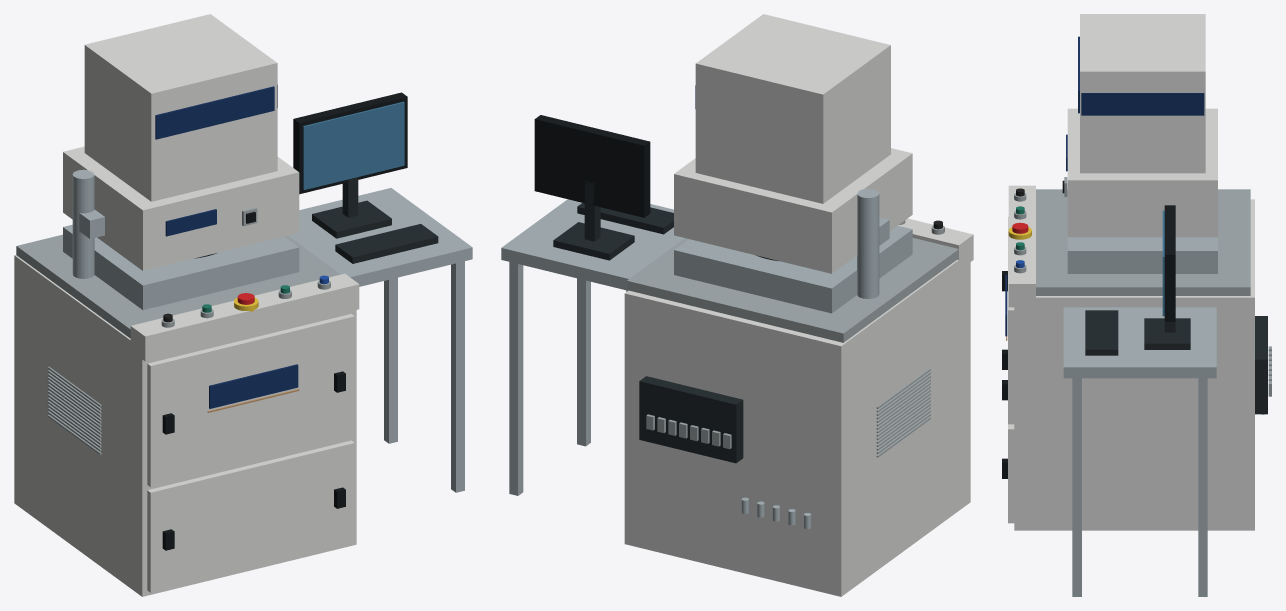
File: instrument.gltf
3 renders of one model, left to right at view 1: azimuth 30°, elevation 25°; view 2: azimuth 150°, elevation 25°; view 3: azimuth 270°, elevation 25°, orthographic. The views are drawn at different scales.
Visible parts, largest first — view 1: cabinet, matching-cover, front-upper-panel, front-lower-panel, chamber-lid, chamber-base, front-console, remote-PC-table, top-deck, screen, table-leg-0.96-0.21, front-blue-band (+9 smaller); view 2: cabinet, matching-cover, chamber-lid, top-deck, monitor, chamber-base, remote-PC-table, rear-power-box, table-leg-0.96--0.25, hoist-column, table-leg-0.96-0.21, monitor-base (+3 smaller); view 3: cabinet, matching-cover, chamber-lid, top-deck, remote-PC-table, chamber-base, side-blue-band, front-console, table-leg-0.96--0.25, table-leg-0.96-0.21, keyboard, monitor (+4 smaller).
Part boxes in pixels (x1,y1,x2,y2): cabinet: (14, 255, 356, 596); matching-cover: (84, 14, 277, 201); front-upper-panel: (147, 314, 354, 487); front-lower-panel: (147, 440, 354, 592); chamber-lid: (63, 146, 299, 270); chamber-base: (63, 224, 299, 309); front-console: (130, 273, 359, 361); remote-PC-table: (288, 188, 472, 286); top-deck: (16, 234, 340, 338); screen: (303, 101, 404, 189); table-leg-0.96-0.21: (451, 261, 464, 492); front-blue-band: (155, 86, 274, 139); cabinet: (624, 252, 970, 596); matching-cover: (695, 14, 890, 203); chamber-lid: (674, 148, 912, 273); top-deck: (627, 238, 958, 342); monitor: (534, 115, 650, 217); chamber-base: (674, 226, 912, 313); remote-PC-table: (501, 199, 684, 290); rear-power-box: (639, 376, 743, 463); table-leg-0.96--0.25: (509, 262, 523, 495); hoist-column: (857, 188, 879, 298); table-leg-0.96-0.21: (577, 278, 590, 446); monitor-base: (553, 222, 634, 260); cabinet: (1014, 199, 1254, 530); matching-cover: (1080, 14, 1205, 173); chamber-lid: (1067, 108, 1217, 237); top-deck: (1036, 189, 1250, 295); remote-PC-table: (1063, 307, 1216, 378); chamber-base: (1067, 237, 1217, 273); side-blue-band: (1081, 93, 1204, 115); front-console: (1008, 185, 1035, 307); table-leg-0.96--0.25: (1198, 378, 1207, 596); table-leg-0.96-0.21: (1072, 378, 1081, 596); keyboard: (1085, 310, 1118, 355); monitor: (1164, 205, 1175, 321).
Size of the model in its own units: 1.42 by 1.78 by 0.9865.
